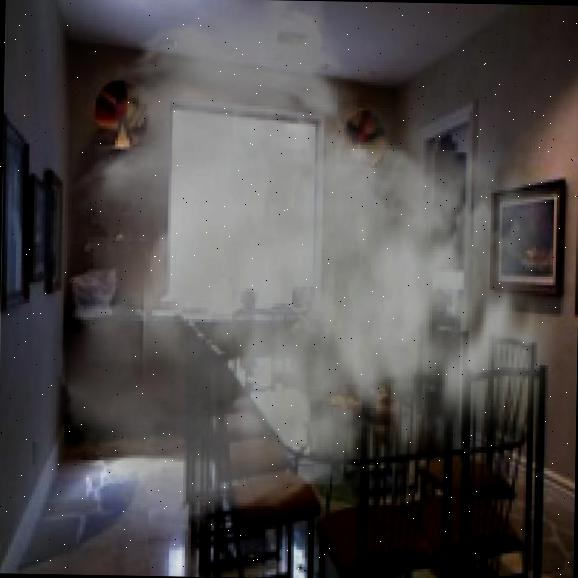smoke: (51, 0, 578, 543)
